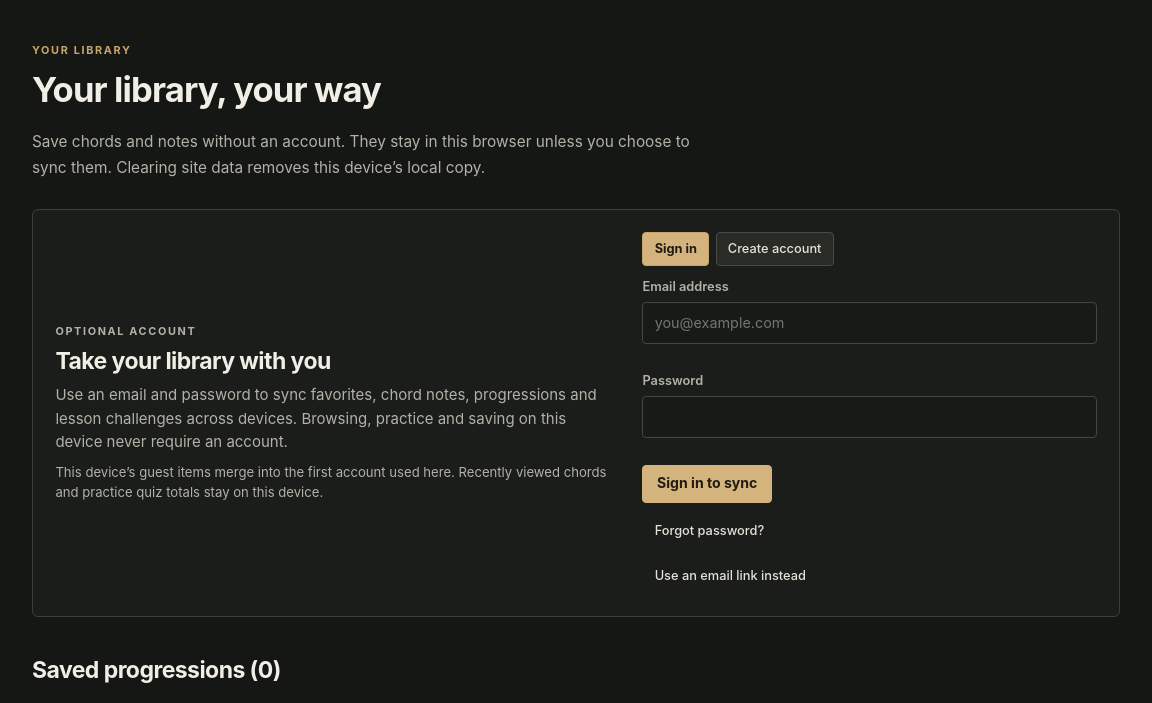
Test: optional account onboarding › reports invalid credentials without pretending the user is signed in
In the field labelled "Email address": (870,323) [642, 302, 1097, 344], type "player@example.com"
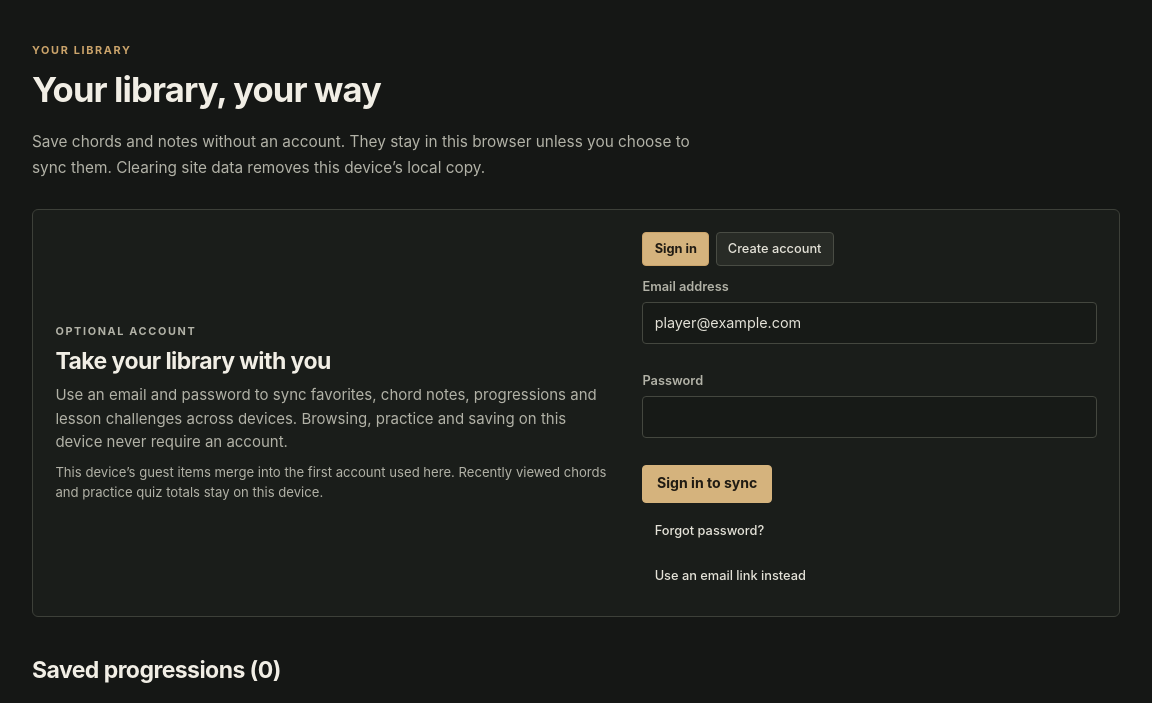
In the password field labelled "Password": (870,417) [642, 396, 1097, 438], type "wrong-password"
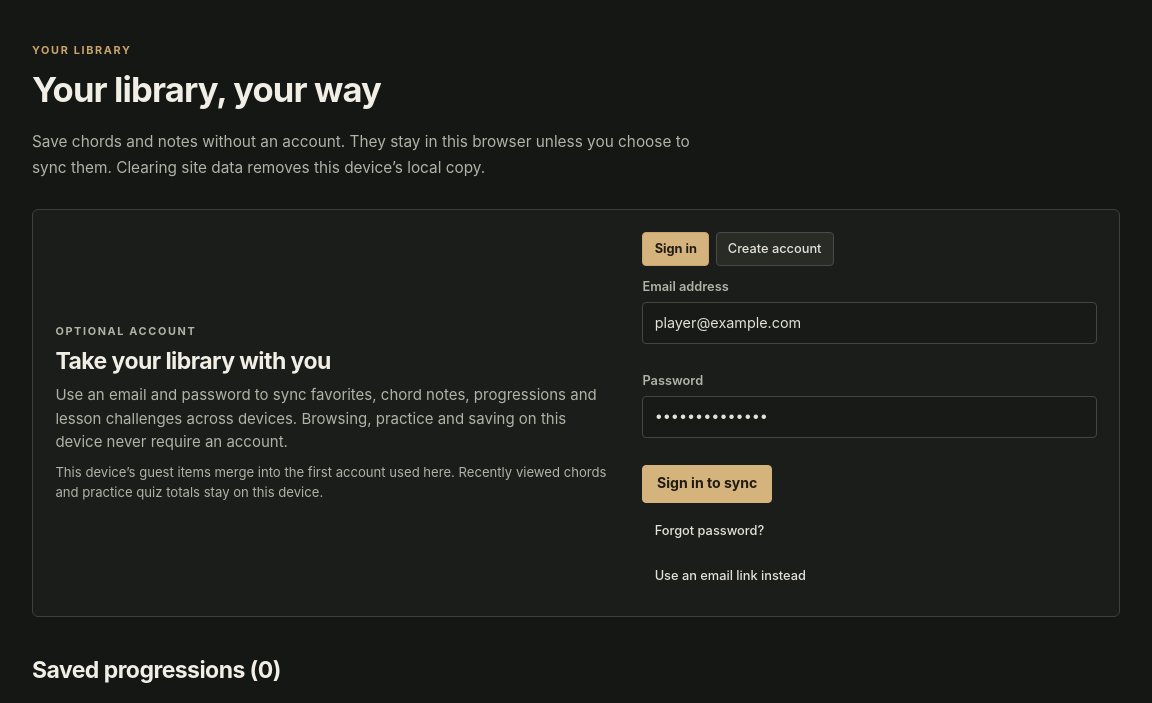
Click the button "Sign in to sync": (707,484) [642, 465, 772, 503]
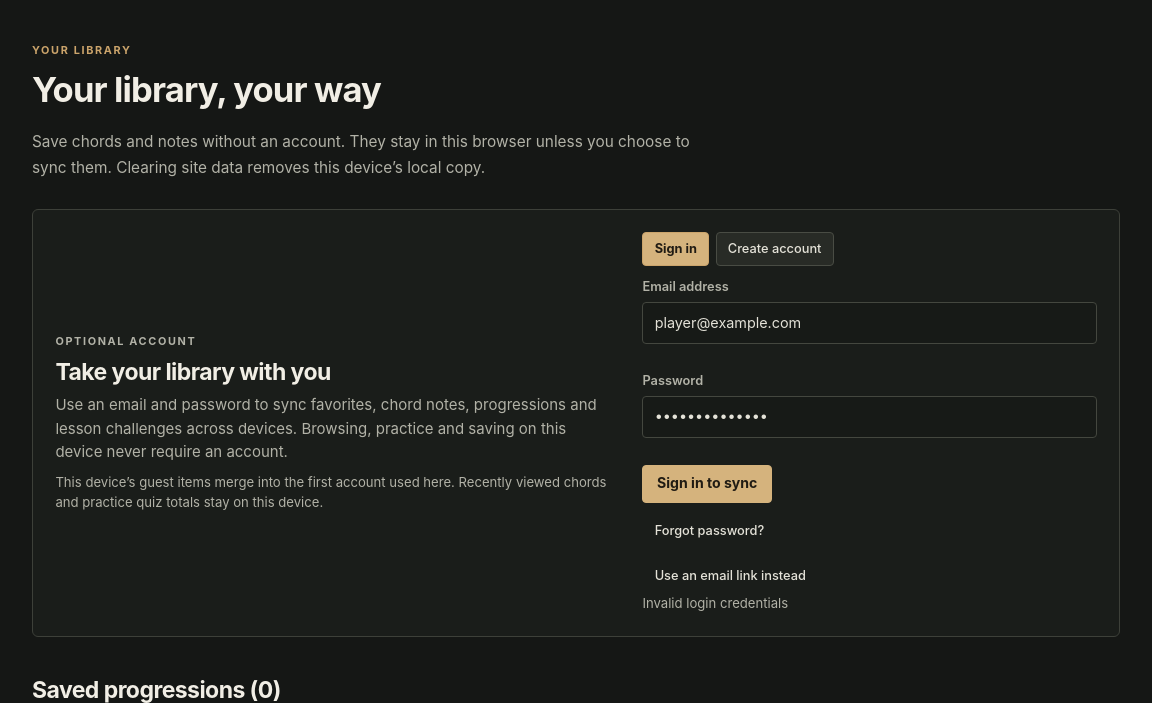
Check: the text "Invalid login credentials" is shown, box [642, 595, 788, 611]
